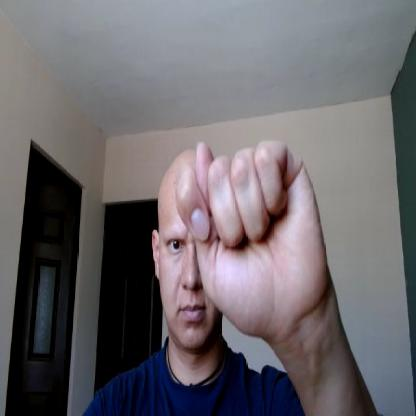T: (175, 139, 328, 338)
